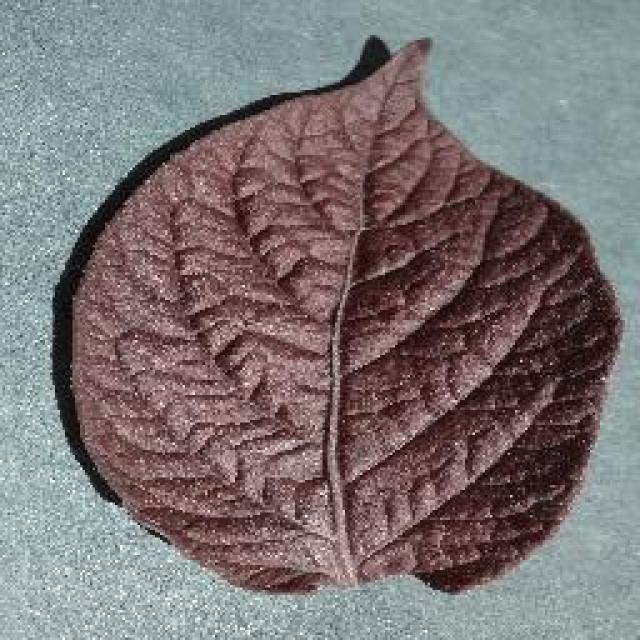Potato___healthy: (69, 37, 631, 601)
